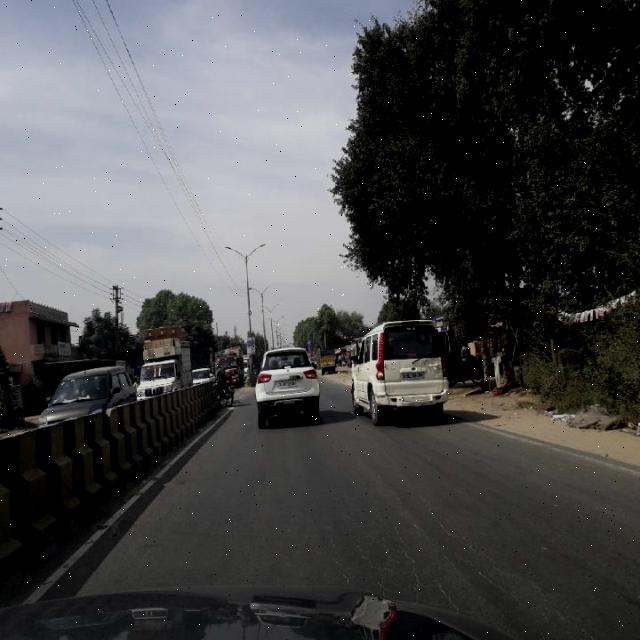D20: (337, 499, 576, 616)
